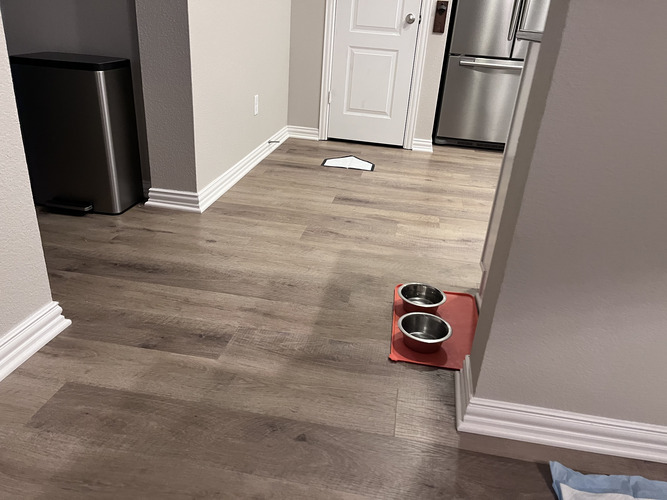homeplate: (322, 154, 375, 171)
